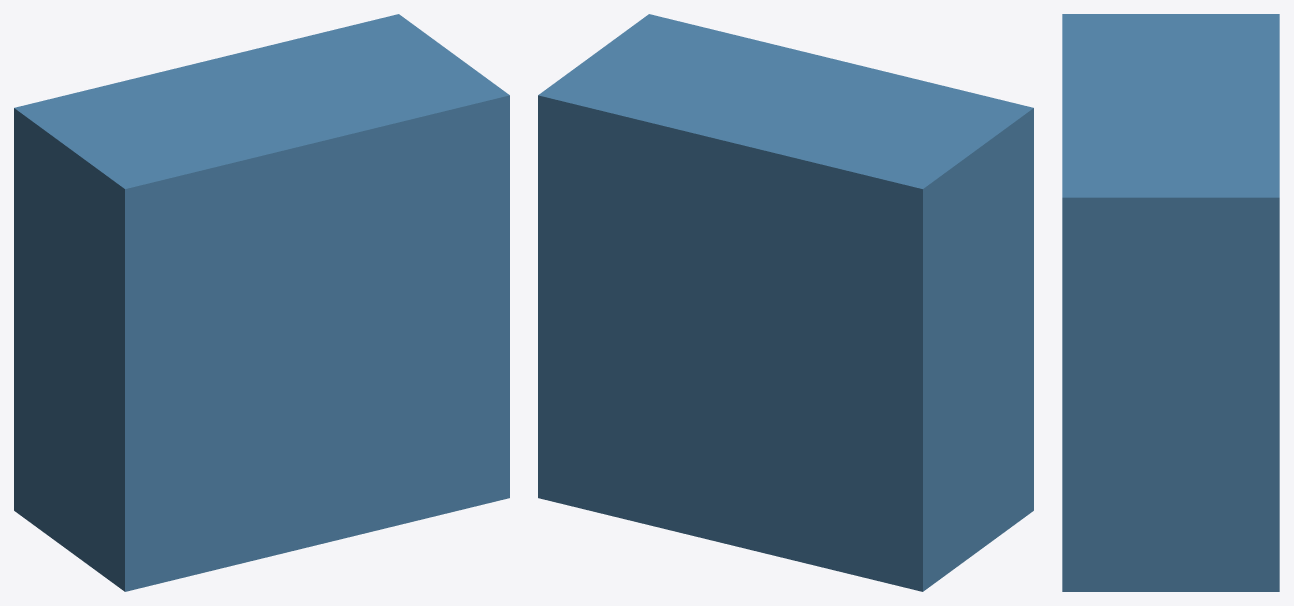
The model's file is Water_VerticalSlab.glb.
The picture shows the model from 3 angles, left to right: view 1: azimuth 30°, elevation 25°; view 2: azimuth 150°, elevation 25°; view 3: azimuth 270°, elevation 25°; orthographic projection. The views are drawn at different scales.
Parts seen in each view (by area): view 1: Water_VerticalSlab_body; view 2: Water_VerticalSlab_body; view 3: Water_VerticalSlab_body.
Part boxes in pixels (bbox=[...]): Water_VerticalSlab_body: bbox=[14, 14, 509, 591]; Water_VerticalSlab_body: bbox=[538, 14, 1033, 591]; Water_VerticalSlab_body: bbox=[1062, 14, 1279, 591].
Bounding box in the file's own units: 1 × 1 × 0.5.
